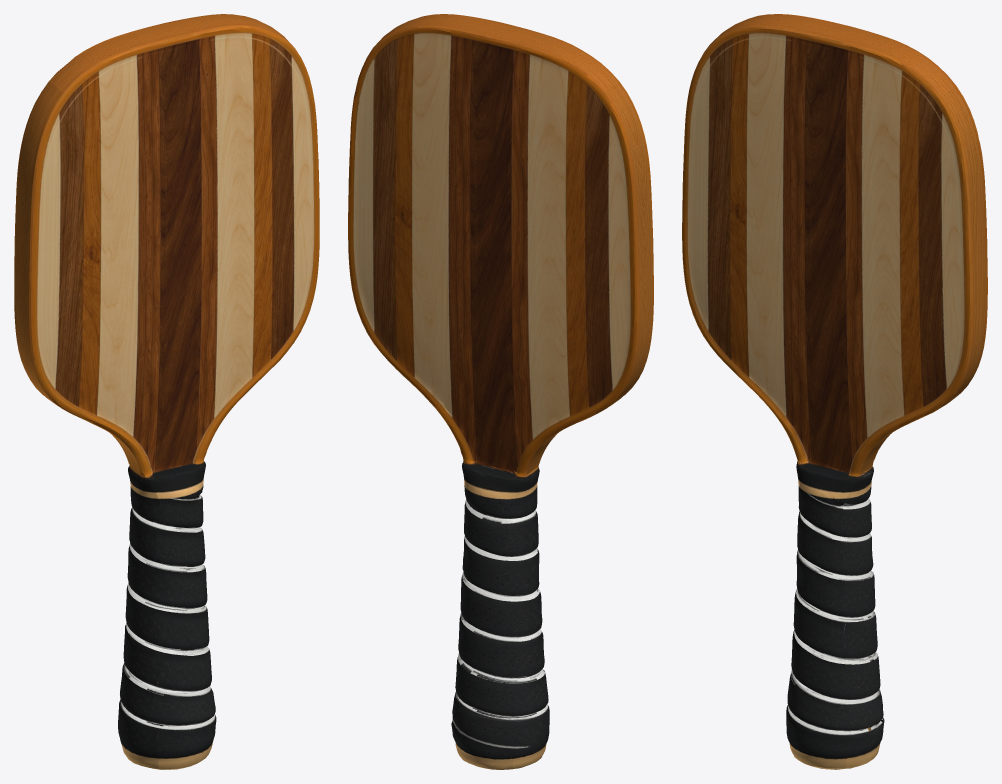
The model's file is paddle-skin-thot-model.glb.
3 views of the same model, side by side, from view 1: azimuth 30°, elevation 25°; view 2: azimuth 150°, elevation 25°; view 3: azimuth 330°, elevation 25° (orthographic).
Visible parts, largest first — view 1: Mesh0; view 2: Mesh0; view 3: Mesh0.
Part boxes in pixels (x1=…): Mesh0: x1=14, y1=14, x2=319, y2=769; Mesh0: x1=348, y1=14, x2=653, y2=769; Mesh0: x1=682, y1=14, x2=987, y2=769.
Size of the model in its own units: 0.8002 by 1.9 by 0.2313.
1 material, 1 textured.
